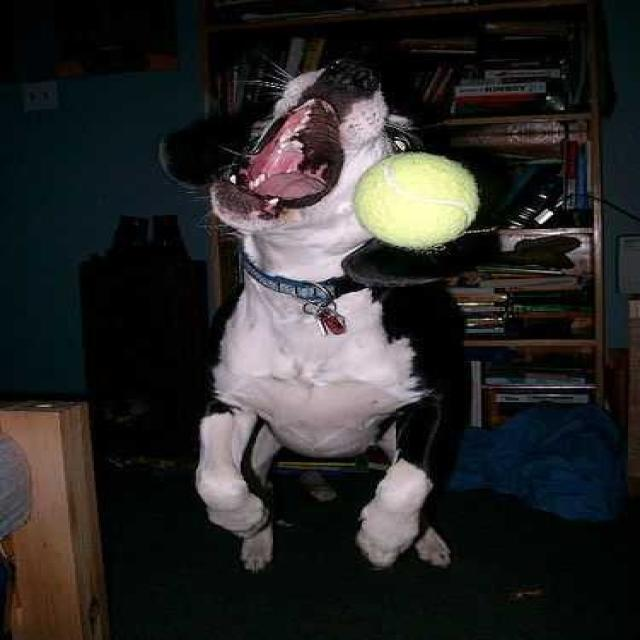Tennis_Ball: (360, 154, 476, 248)
